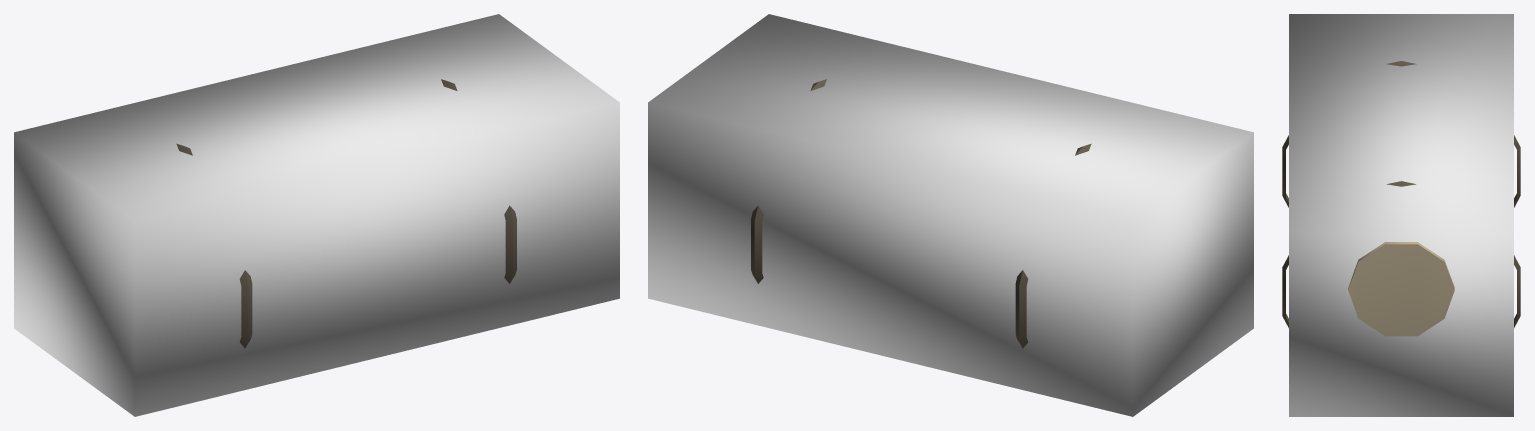
File: lena.glb
The picture shows the model from 3 angles, left to right: view 1: azimuth 30°, elevation 25°; view 2: azimuth 150°, elevation 25°; view 3: azimuth 270°, elevation 25°; orthographic projection. The views are drawn at different scales.
Visible parts, largest first — view 1: lena-colcaja, lena; view 2: lena-colcaja, lena; view 3: lena-colcaja, lena.
Boxes of the visible parts, left/top/right/bottom form: lena-colcaja: left=14, top=14, right=619, bottom=416; lena: left=176, top=79, right=516, bottom=348; lena-colcaja: left=648, top=14, right=1253, bottom=416; lena: left=751, top=79, right=1091, bottom=348; lena-colcaja: left=1289, top=14, right=1513, bottom=416; lena: left=1282, top=61, right=1520, bottom=336.
Size of the model in its own units: 0.4445 by 0.206 by 0.2008.
